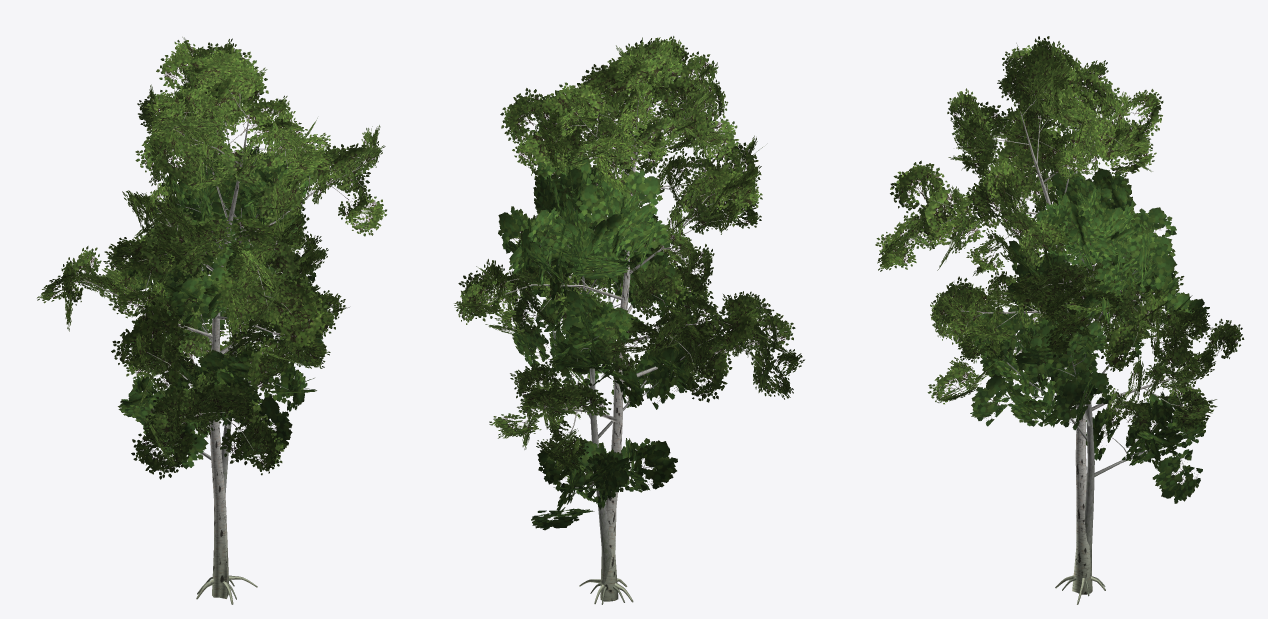
Rendered from env_trees_young.glb.
3 views of the same model, side by side, from view 1: azimuth 30°, elevation 25°; view 2: azimuth 150°, elevation 25°; view 3: azimuth 270°, elevation 25° (orthographic). The views are drawn at different scales.
Parts seen in each view (by area): view 1: TREE_Young_Birch, TREE_Young_Maple; view 2: TREE_Young_Birch, TREE_Young_Maple; view 3: TREE_Young_Birch, TREE_Young_Maple.
Part boxes in pixels (x1,y1,x2,y2): TREE_Young_Birch: (37,37,386,604); TREE_Young_Maple: (118,146,331,599); TREE_Young_Birch: (454,36,804,604); TREE_Young_Maple: (498,149,710,604); TREE_Young_Birch: (875,36,1244,604); TREE_Young_Maple: (969,165,1209,596).
Bounding box in the file's own units: 7.52 × 12.98 × 8.43.
Materials: 4 (4 with a texture image).
